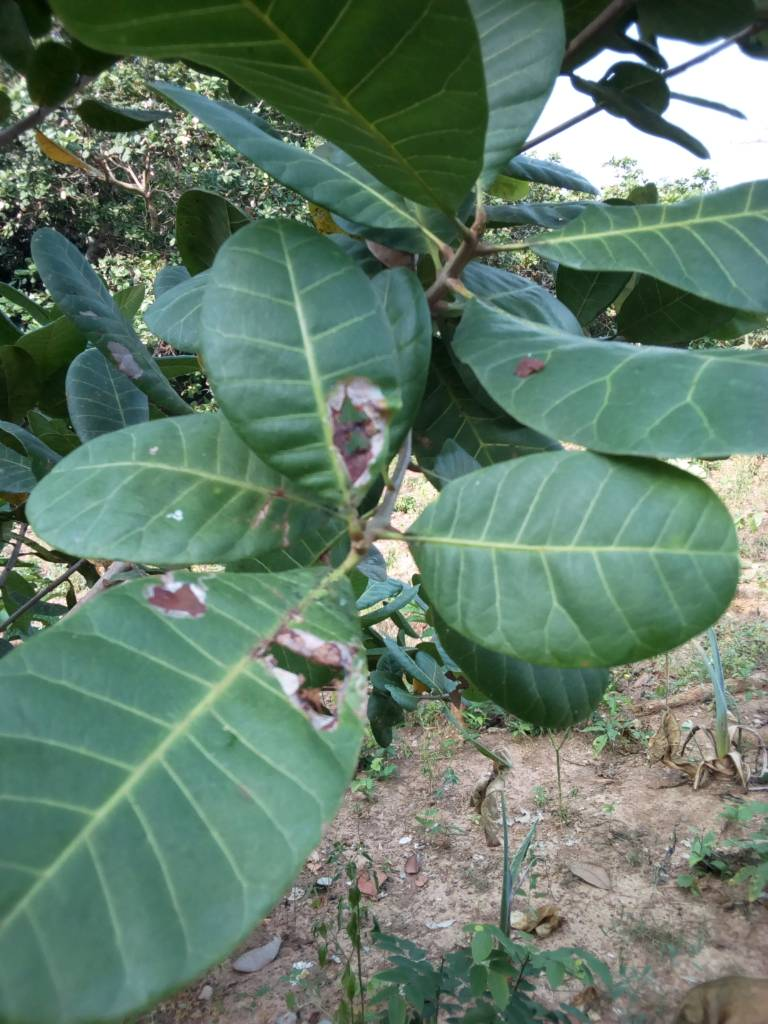Bactériose: (1, 567, 361, 1007), (200, 219, 383, 507)
